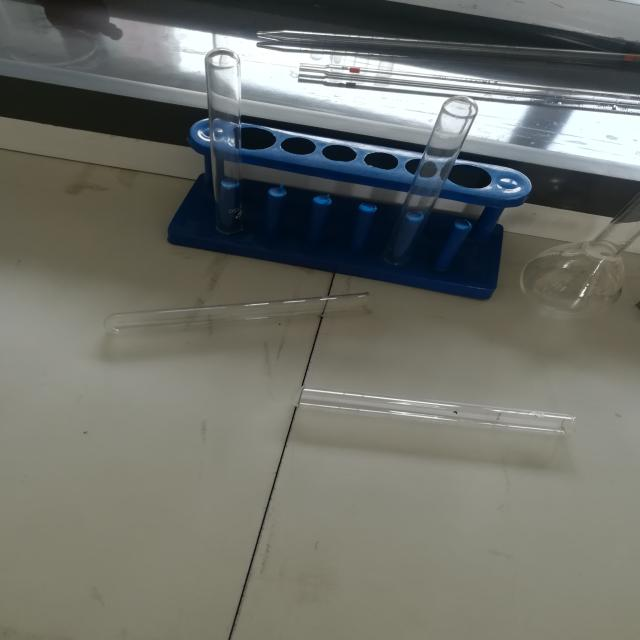Test_Tube: (256, 370, 598, 478), (75, 265, 418, 354), (368, 55, 492, 284), (158, 44, 274, 252)
